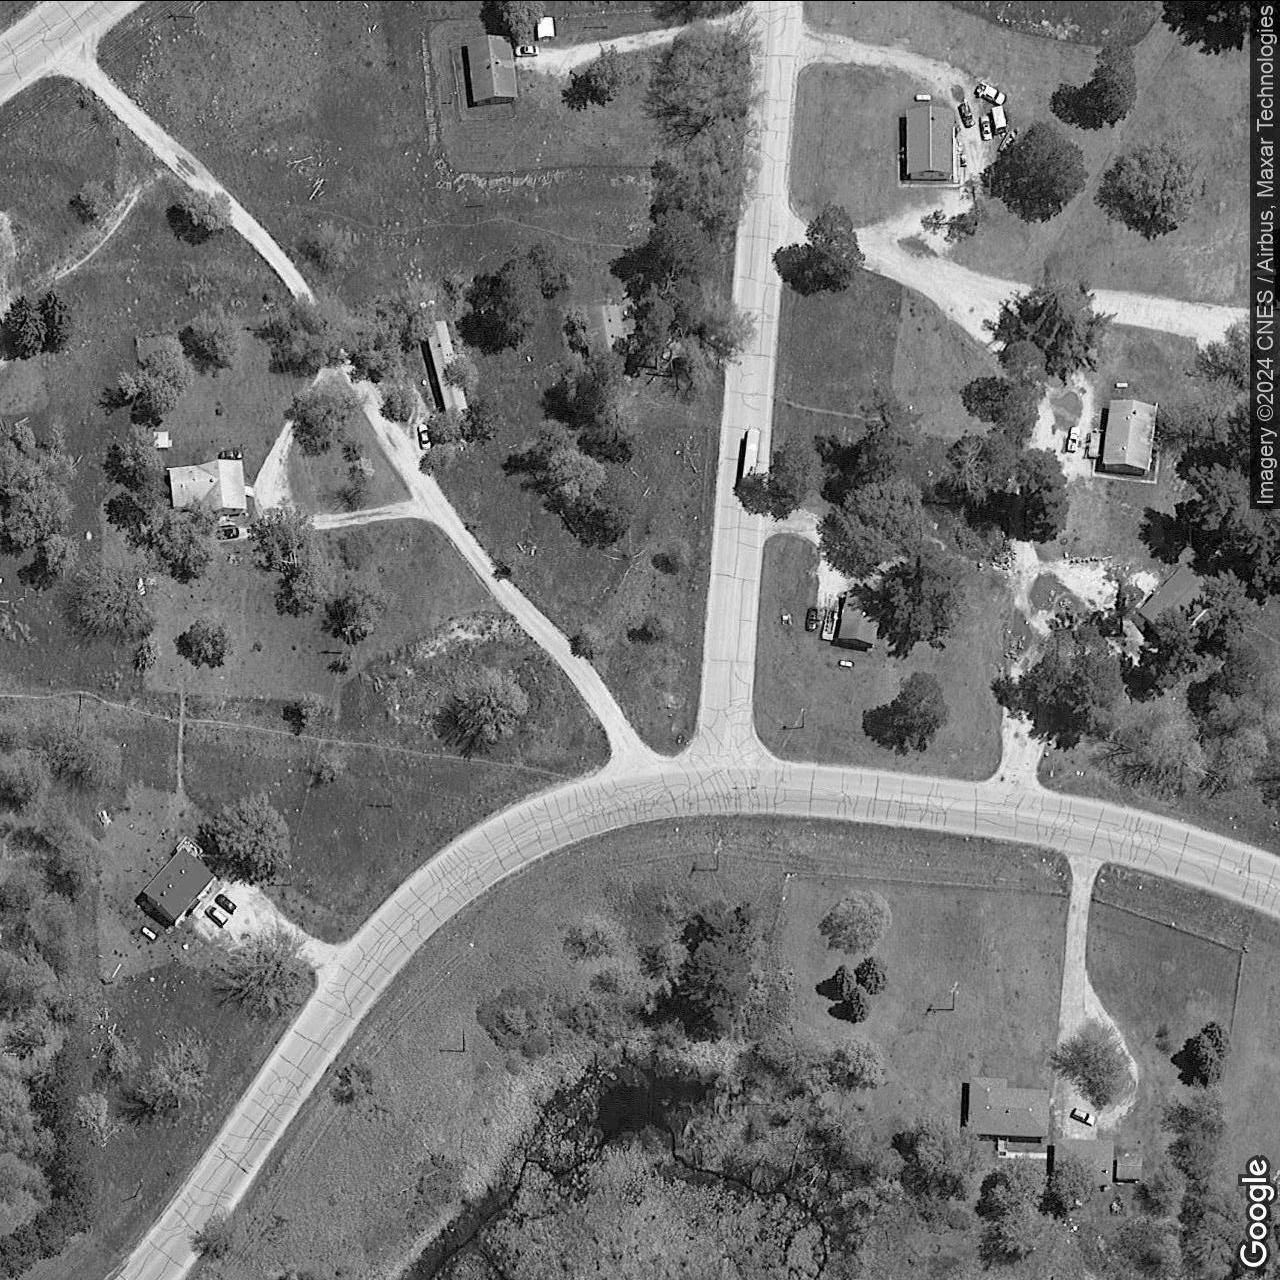Garage: (1137, 559, 1216, 646), (1053, 1137, 1114, 1185)
House: (141, 845, 218, 928), (964, 1073, 1050, 1137), (165, 456, 248, 517), (1102, 395, 1160, 476), (464, 30, 520, 107), (904, 103, 956, 178), (583, 301, 639, 363), (835, 590, 886, 652)
Propane: (138, 924, 157, 941), (912, 91, 933, 103), (837, 659, 855, 668), (1112, 380, 1129, 389)
Trailer: (424, 318, 468, 415)
